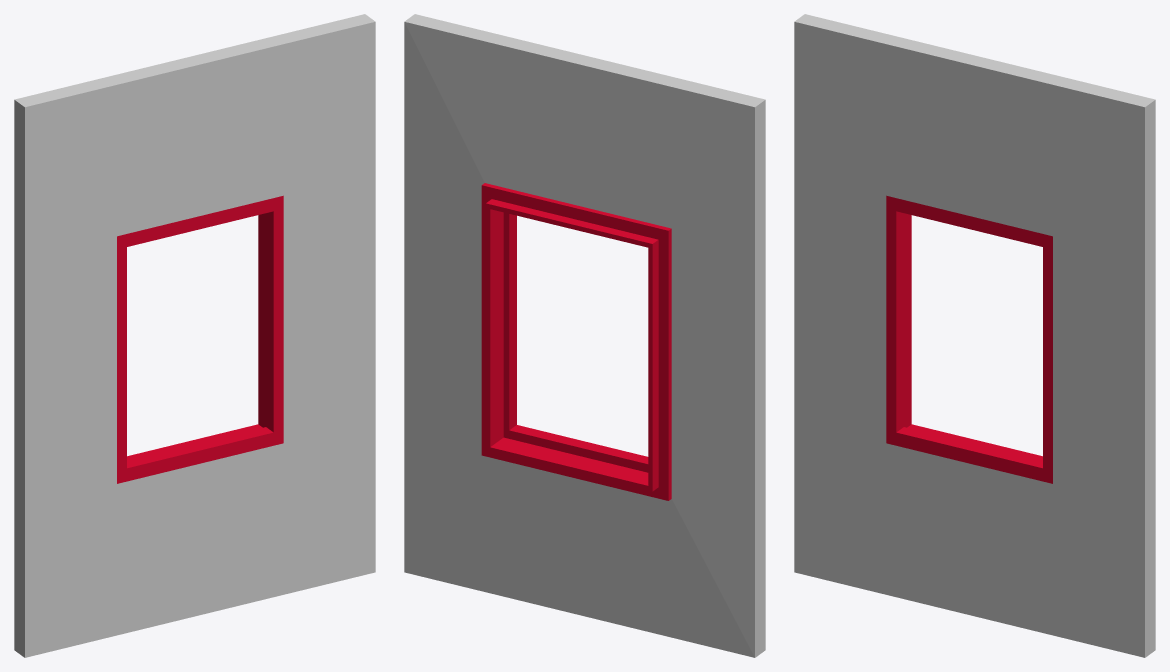
Rendered from room.wall.window.fbx.
The picture shows the model from 3 angles, left to right: view 1: azimuth 30°, elevation 25°; view 2: azimuth 150°, elevation 25°; view 3: azimuth 330°, elevation 25°; orthographic projection.
Visible parts, largest first — view 1: room.wall.window; view 2: room.wall.window; view 3: room.wall.window.
Boxes of the visible parts, x1=… form: room.wall.window: x1=14, y1=14, x2=375, y2=657; room.wall.window: x1=404, y1=14, x2=765, y2=657; room.wall.window: x1=794, y1=14, x2=1155, y2=657.
Size of the model in its own units: 200 by 300 by 20.76.
